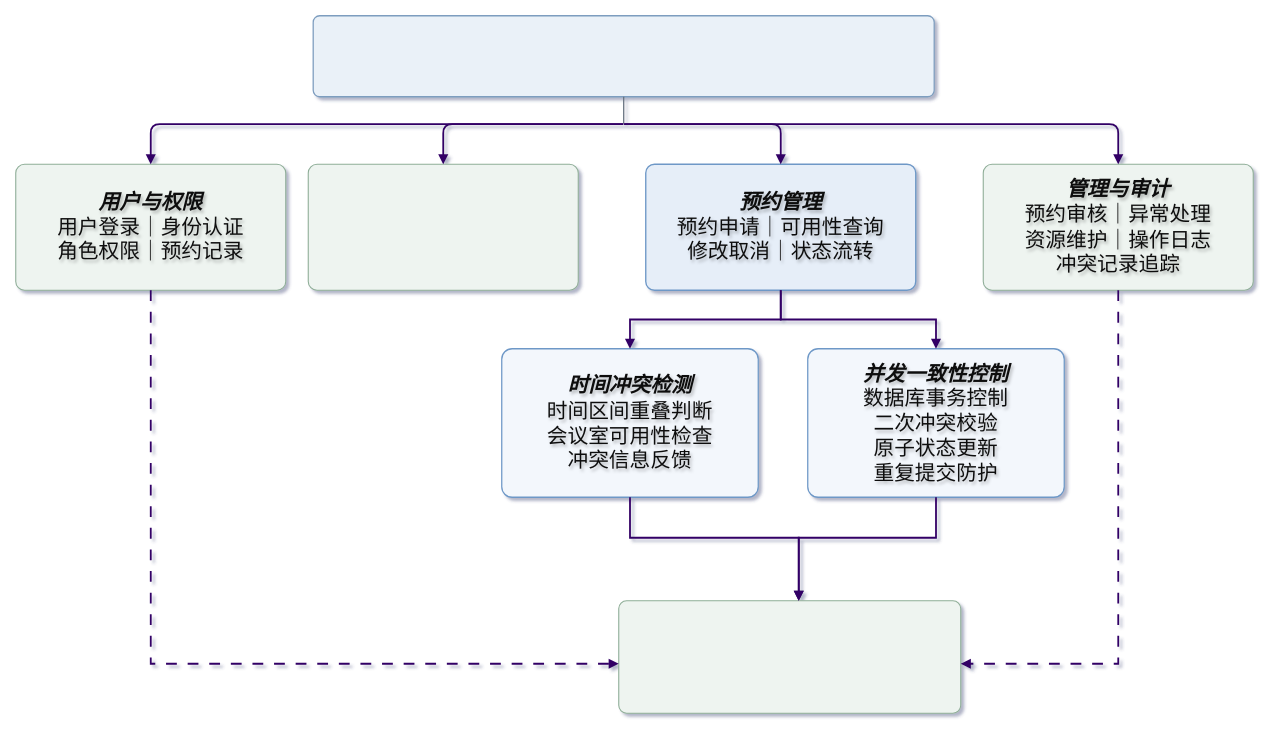
The diagram is 1275 pixels wide and 735 high, and some of its shapes have lost their labels. Each missing label, with the centre of its shape:
"会议室资源 基本信息｜容量管理 设备设施｜开放时间 资源状态维护" goes at (x=442, y=226).
"会议室预约与时间冲突检查系统" goes at (x=623, y=56).
"日历与查询交互 日 / 周视图展示 条件筛选｜预约详情" goes at (x=789, y=656).
